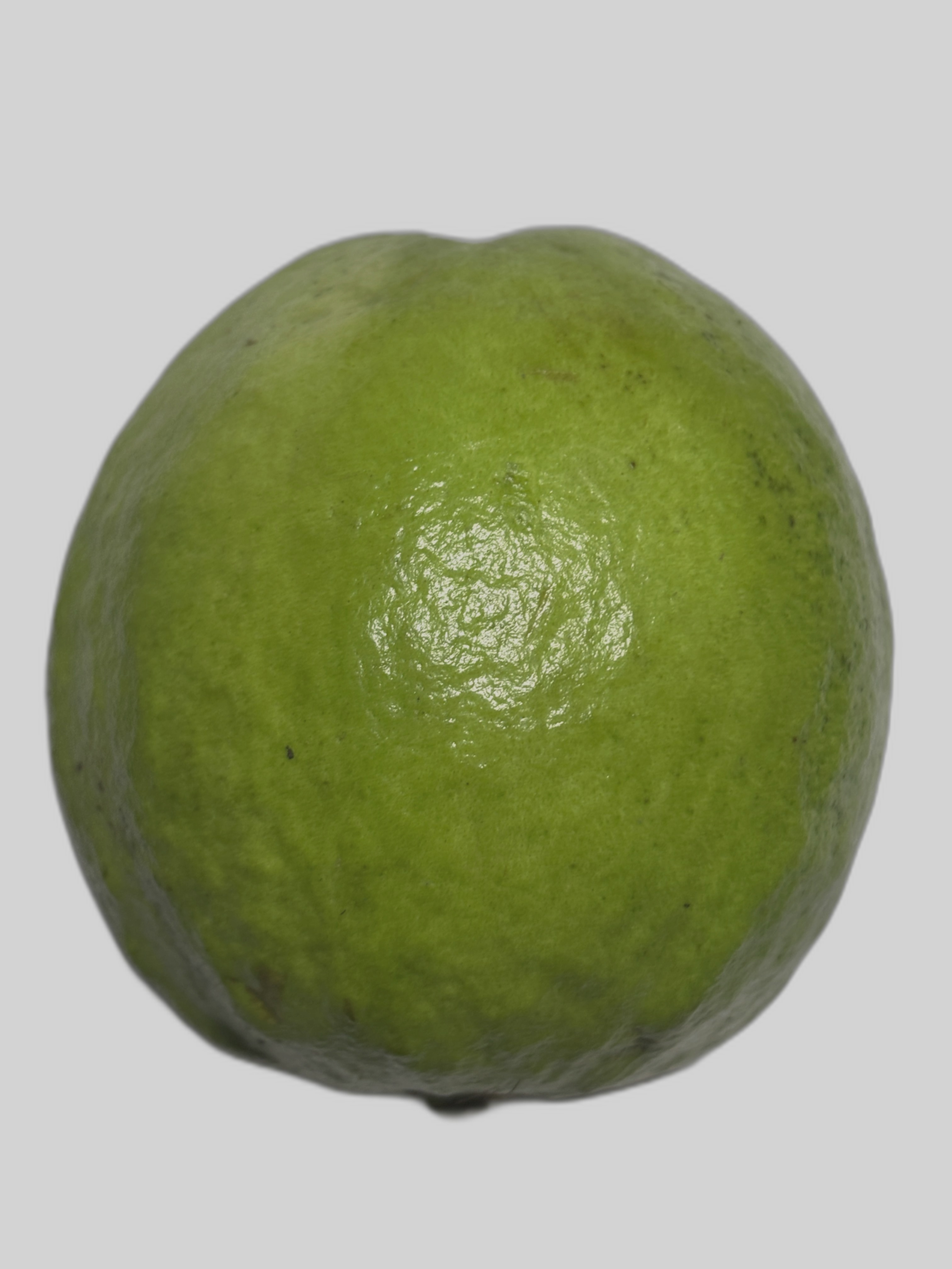guava: (48, 301, 830, 1178)
